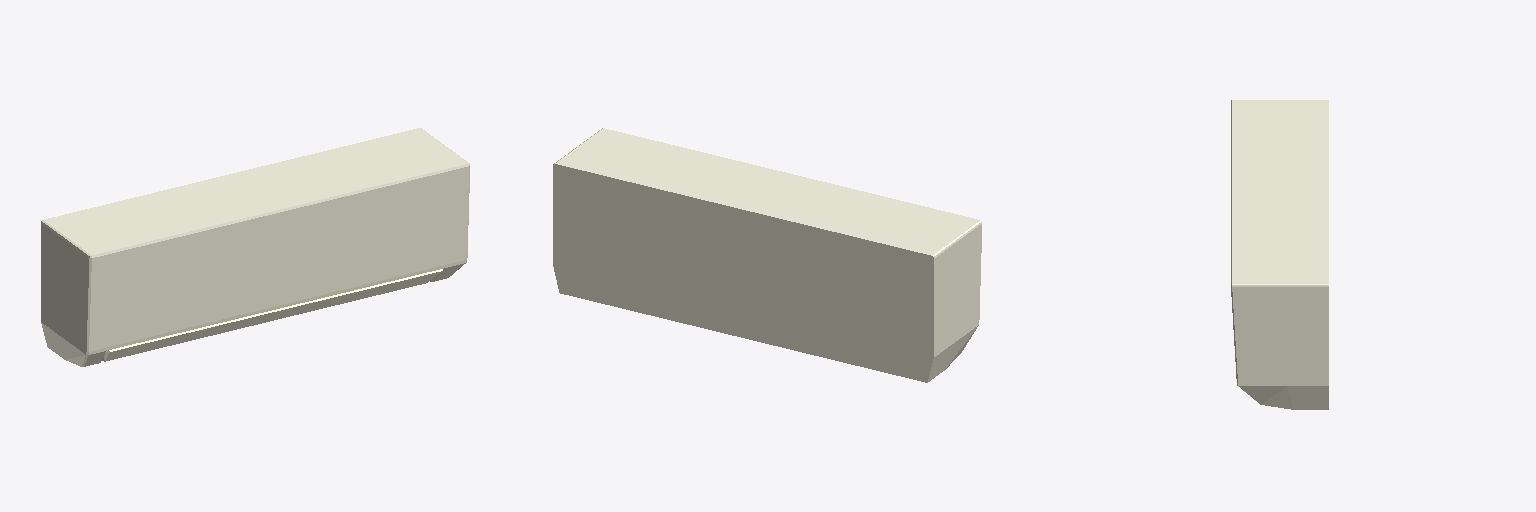
The model's file is internal-air-conditioning.obj.
3 renders of one model, left to right at view 1: azimuth 30°, elevation 25°; view 2: azimuth 150°, elevation 25°; view 3: azimuth 270°, elevation 25°, orthographic.
Visible parts, largest first — view 1: internal-unit_Cube.001; view 2: internal-unit_Cube.001; view 3: internal-unit_Cube.001.
Part boxes in pixels (left/top/right/bottom): internal-unit_Cube.001: left=41, top=128, right=469, bottom=366; internal-unit_Cube.001: left=553, top=128, right=981, bottom=382; internal-unit_Cube.001: left=1231, top=100, right=1328, bottom=409.
Bounding box in the file's own units: 8.85 × 2.85 × 1.98.